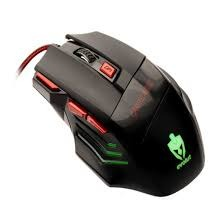mouse: (18, 29, 213, 198)
